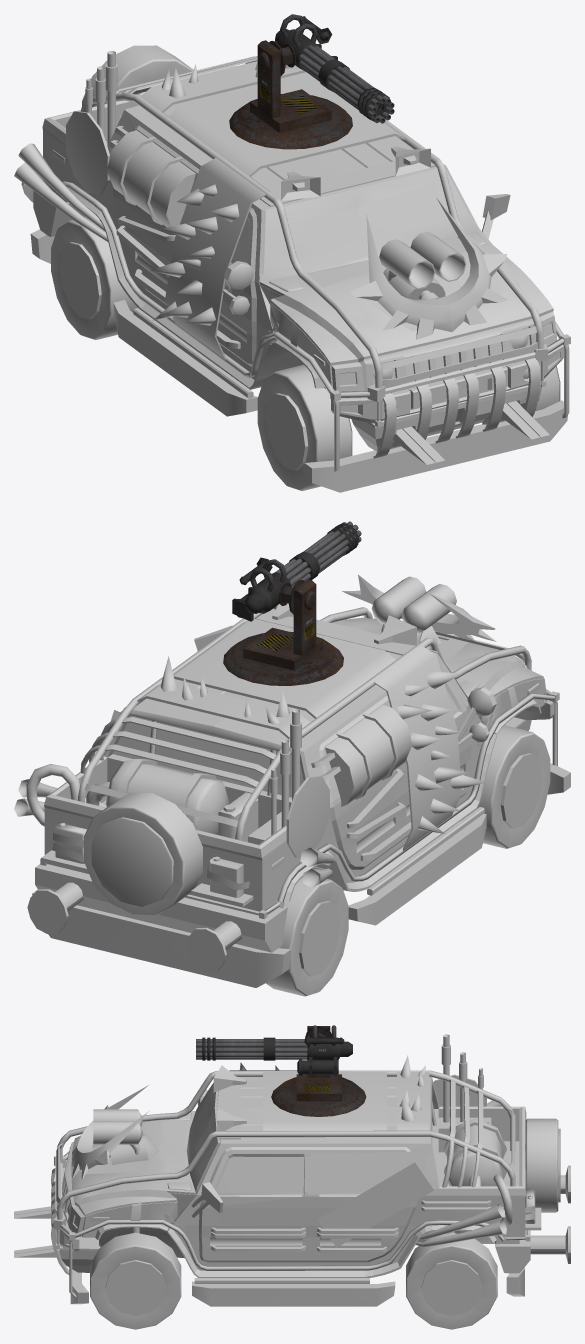
Rendered from Hummer_H2_Azazel.fbx.
The picture shows the model from 3 angles, top to bottom: view 1: azimuth 30°, elevation 25°; view 2: azimuth 150°, elevation 25°; view 3: azimuth 270°, elevation 25°; orthographic projection. The views are drawn at different scales.
Visible parts, largest first — view 1: CarBody, polySurface718, polySurface821, polySurface829, polySurface792, polySurface838, polySurface816, Wheel_FR, polySurface756, Gun, Wheel_RR, Turret (+30 smaller); view 2: CarBody, polySurface740, polySurface792, polySurface821, polySurface845, polySurface823, polySurface816, polySurface794, Gun, Wheel_FR, polySurface756, Wheel_RR (+31 smaller); view 3: CarBody, polySurface718, Wheel_FL, polySurface757, Wheel_RL, Gun, polySurface792, polySurface818, polySurface817, polySurface716, polySurface717, polySurface845 (+31 smaller).
Part boxes in pixels (bbox=[...]): CarBody: bbox=[33, 72, 563, 451]; polySurface718: bbox=[259, 165, 553, 365]; polySurface821: bbox=[165, 158, 265, 359]; polySurface829: bbox=[304, 400, 567, 492]; polySurface792: bbox=[168, 75, 404, 177]; polySurface838: bbox=[349, 197, 507, 339]; polySurface816: bbox=[107, 130, 195, 227]; Wheel_FR: bbox=[257, 364, 352, 490]; polySurface756: bbox=[113, 300, 257, 416]; Gun: bbox=[275, 14, 394, 123]; Wheel_RR: bbox=[51, 216, 137, 339]; Turret: bbox=[250, 40, 331, 132]; CarBody: bbox=[35, 651, 554, 952]; polySurface740: bbox=[32, 889, 291, 987]; polySurface792: bbox=[173, 618, 395, 718]; polySurface821: bbox=[374, 646, 461, 851]; polySurface845: bbox=[83, 793, 202, 914]; polySurface823: bbox=[91, 817, 173, 906]; polySurface816: bbox=[325, 705, 411, 806]; polySurface794: bbox=[86, 759, 229, 834]; Gun: bbox=[232, 521, 361, 621]; Wheel_FR: bbox=[468, 725, 550, 848]; polySurface756: bbox=[348, 813, 486, 925]; Wheel_RR: bbox=[266, 877, 348, 996]; CarBody: bbox=[56, 1077, 530, 1283]; polySurface718: bbox=[71, 1083, 220, 1216]; Wheel_FL: bbox=[90, 1232, 181, 1329]; polySurface757: bbox=[192, 1281, 395, 1306]; Wheel_RL: bbox=[406, 1232, 497, 1329]; Gun: bbox=[196, 1025, 352, 1076]; polySurface792: bbox=[263, 1072, 386, 1130]; polySurface818: bbox=[308, 1151, 426, 1195]; polySurface817: bbox=[317, 1162, 433, 1247]; polySurface716: bbox=[57, 1130, 515, 1219]; polySurface717: bbox=[216, 1157, 303, 1195]; polySurface845: bbox=[525, 1118, 558, 1212].
Size of what is drawn, in the model's own units: 289 by 304 by 581.
